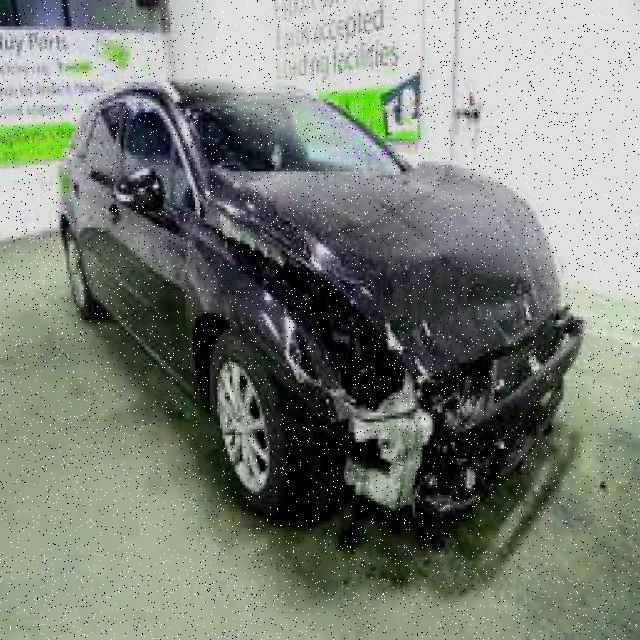car damage: (205, 201, 586, 518)
